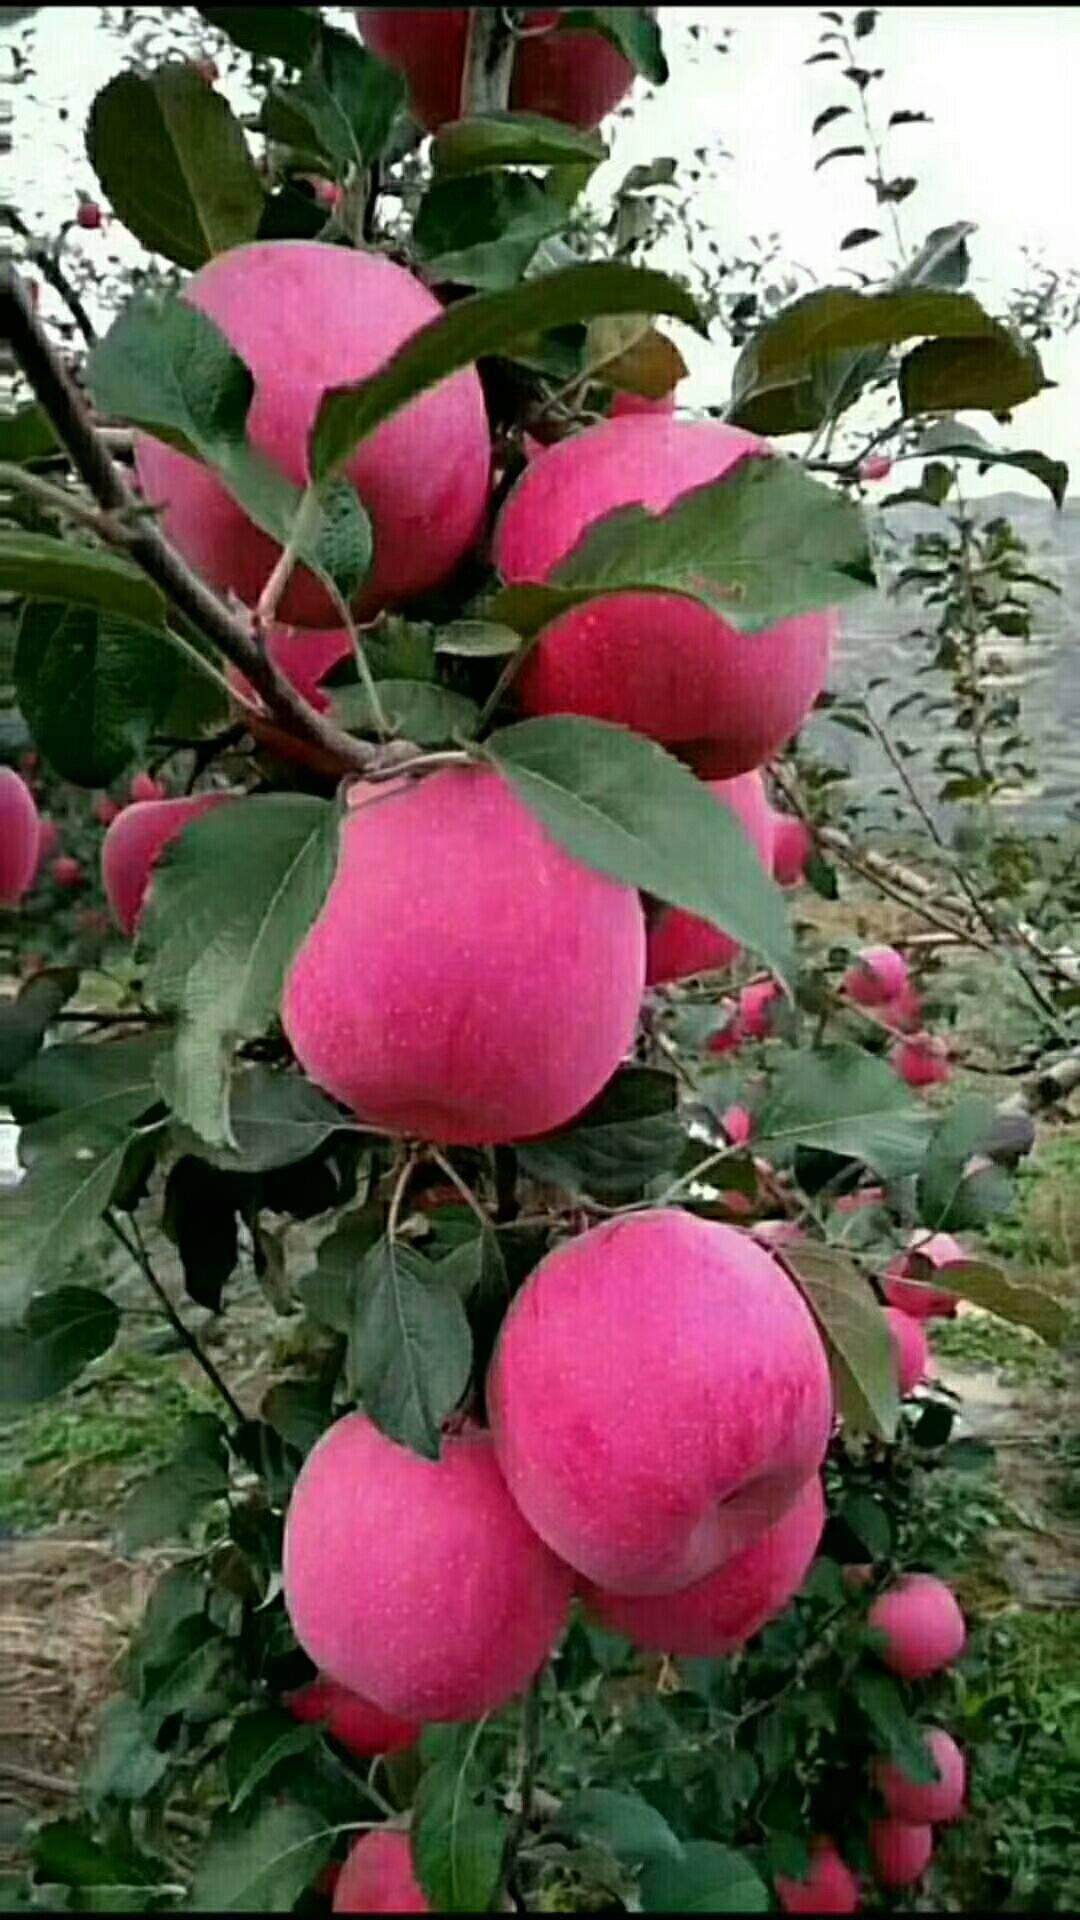apple: (272, 749, 644, 1145), (129, 237, 493, 626), (489, 1211, 829, 1600), (491, 406, 833, 782), (280, 1399, 567, 1733)
